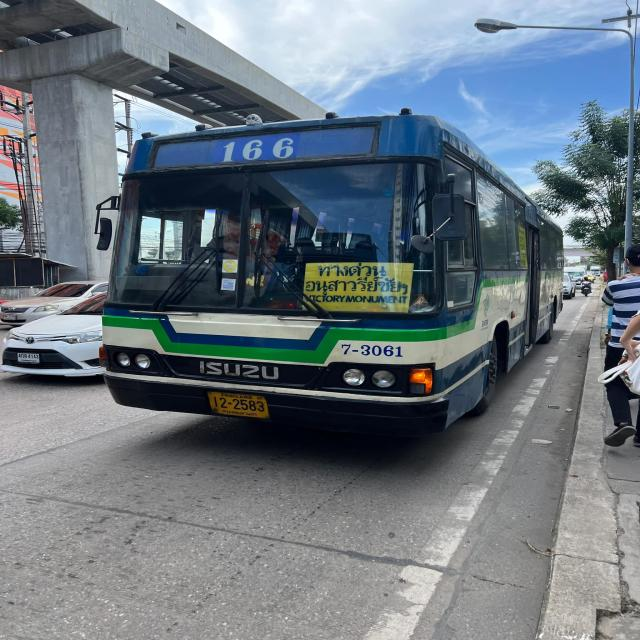BMTA-bus: (91, 102, 571, 450)
Bus-Line-Number: (220, 133, 298, 162)
Destination-Sign-Normal-Expressway: (306, 263, 412, 314)
